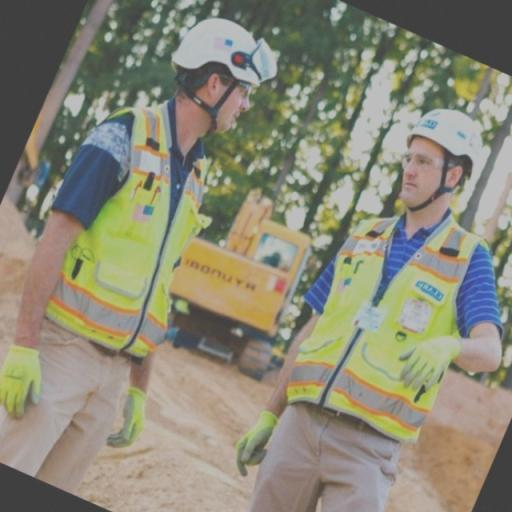Person: (0, 14, 298, 478), (24, 16, 270, 491), (242, 104, 512, 509), (248, 113, 506, 512)
gloves: (394, 330, 463, 410), (232, 408, 285, 481), (0, 343, 43, 425), (108, 387, 150, 449)
goggles: (402, 151, 468, 173), (213, 71, 263, 100)
helmet: (173, 36, 281, 91), (404, 108, 496, 170)
vest: (281, 217, 485, 446), (53, 107, 205, 361)
